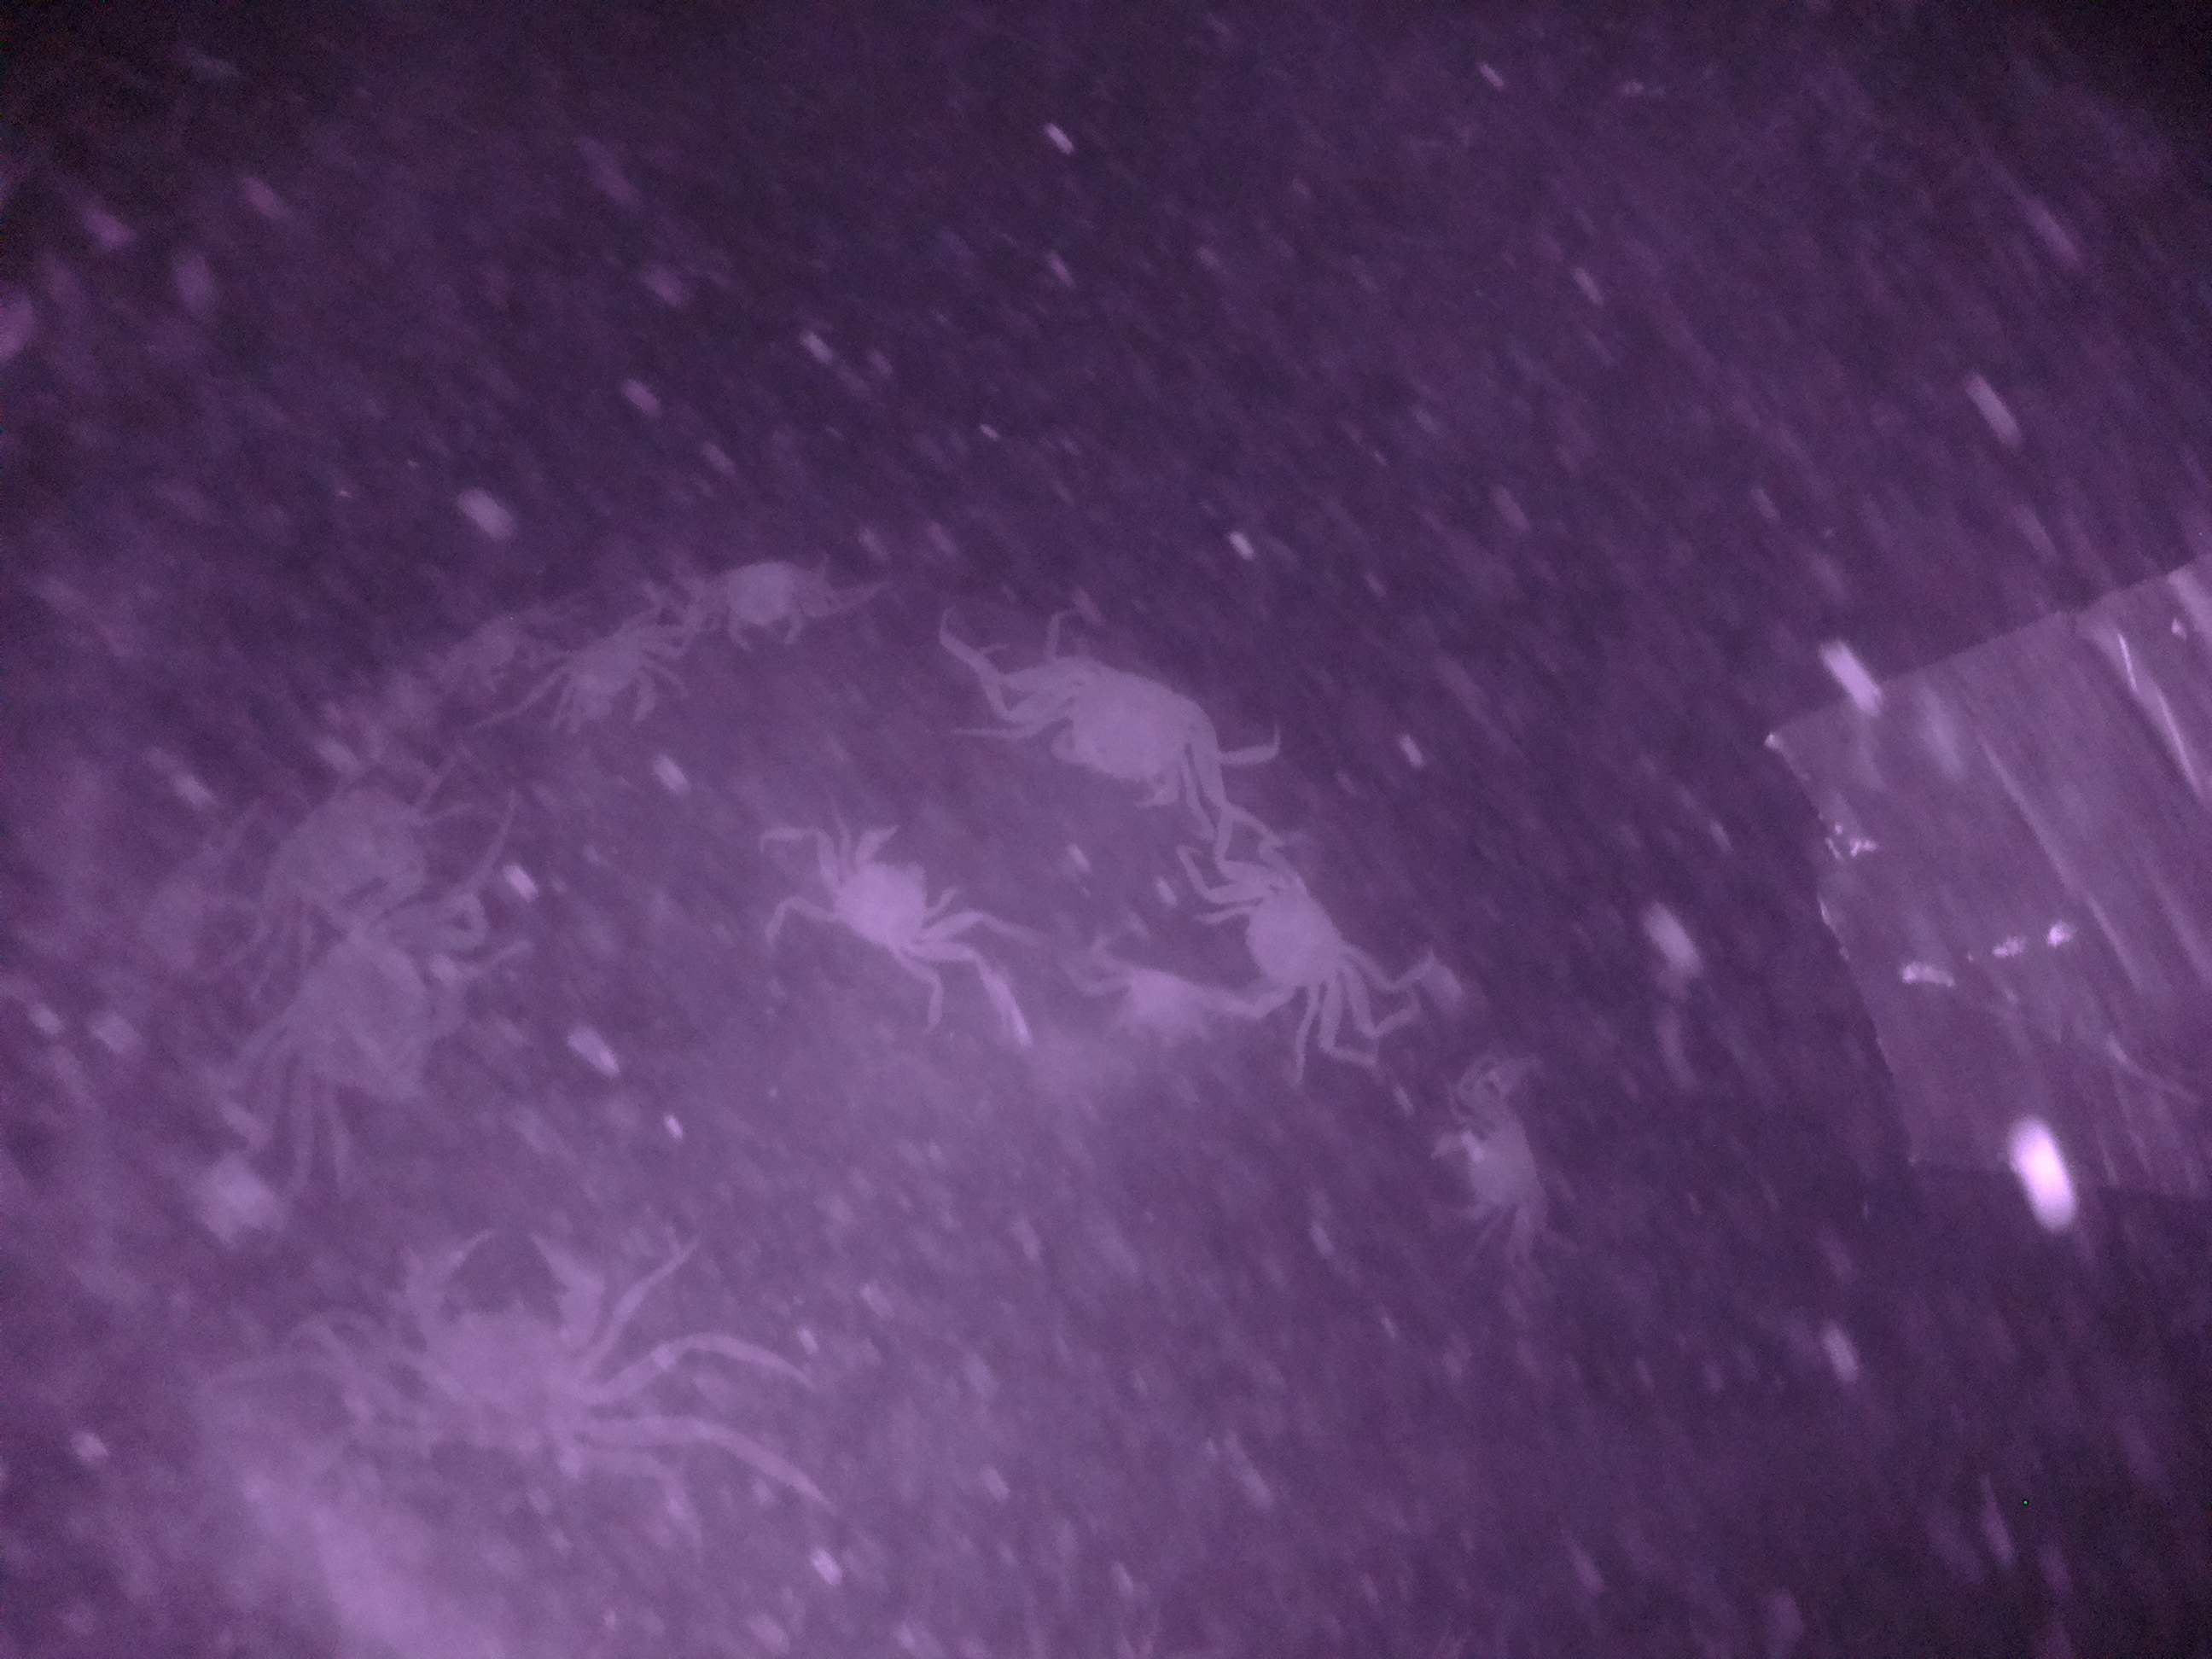Crab: (982, 624, 1237, 821), (1165, 838, 1404, 1047), (798, 796, 1000, 993), (678, 537, 834, 652)
